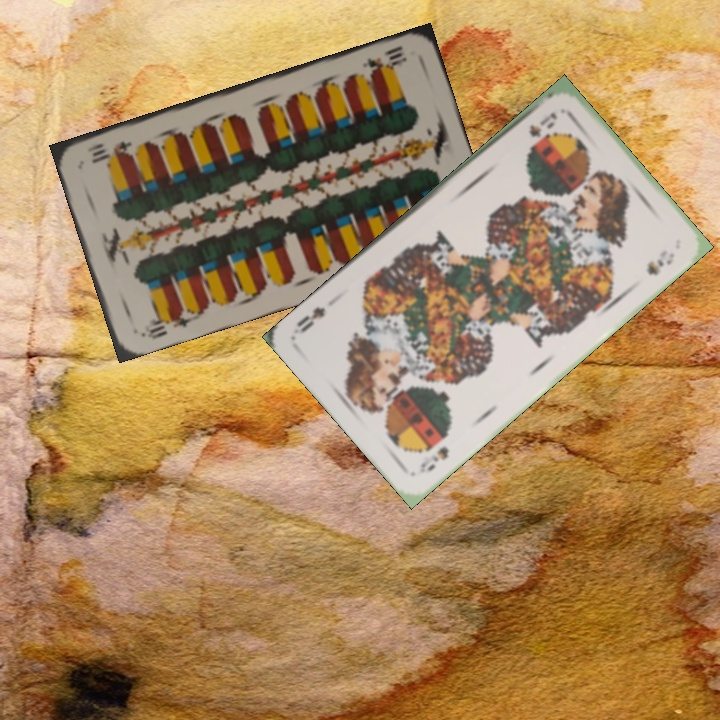E10: (136, 305, 194, 342), (358, 41, 410, 78)
SO: (415, 442, 452, 476), (524, 108, 560, 140)
